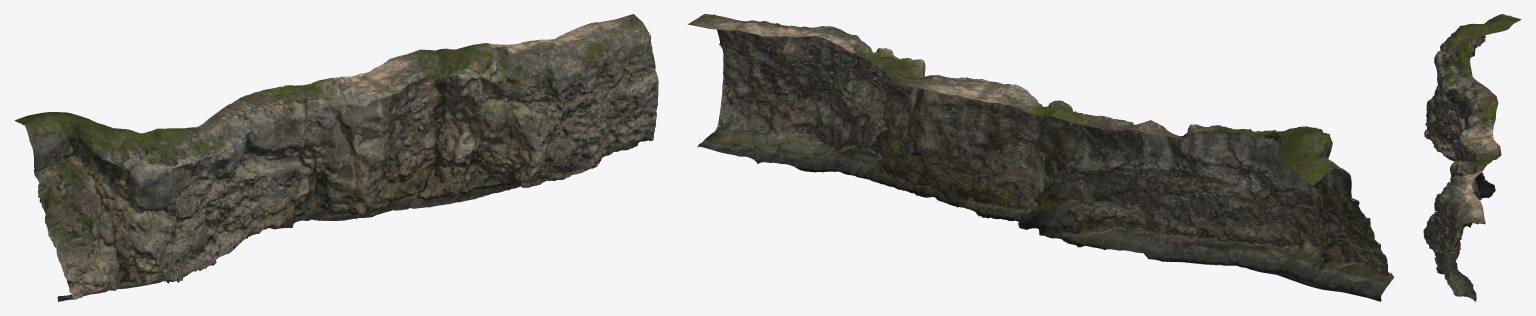
The model's file is coastal_cliff_02.gltf.
The picture shows the model from 3 angles, left to right: view 1: azimuth 30°, elevation 25°; view 2: azimuth 150°, elevation 25°; view 3: azimuth 270°, elevation 25°; orthographic projection. The views are drawn at different scales.
Parts seen in each view (by area): view 1: coastal_cliff_02_LOD0; view 2: coastal_cliff_02_LOD0; view 3: coastal_cliff_02_LOD0.
Part boxes in pixels (x1,y1,x2,y2): coastal_cliff_02_LOD0: (14, 14, 658, 301); coastal_cliff_02_LOD0: (688, 14, 1393, 301); coastal_cliff_02_LOD0: (1423, 14, 1520, 301).
Bounding box in the file's own units: 40.93 × 10.05 × 8.65.
Materials: 1 (1 with a texture image).
